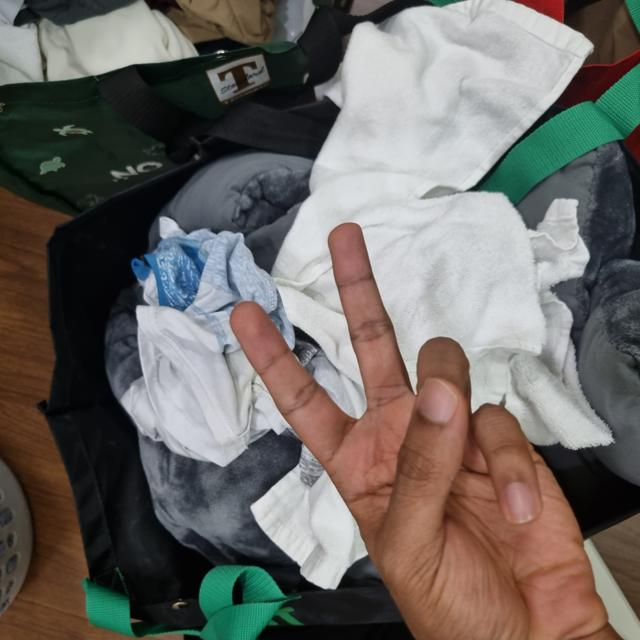Scissors: (0, 233, 411, 617)
